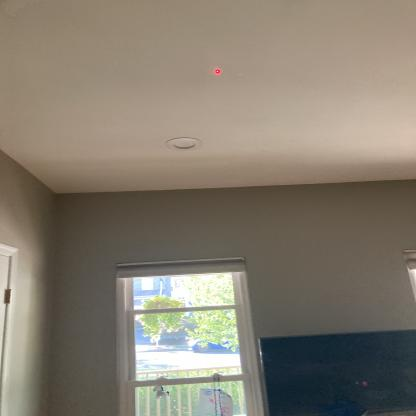target: (214, 66, 223, 77)
